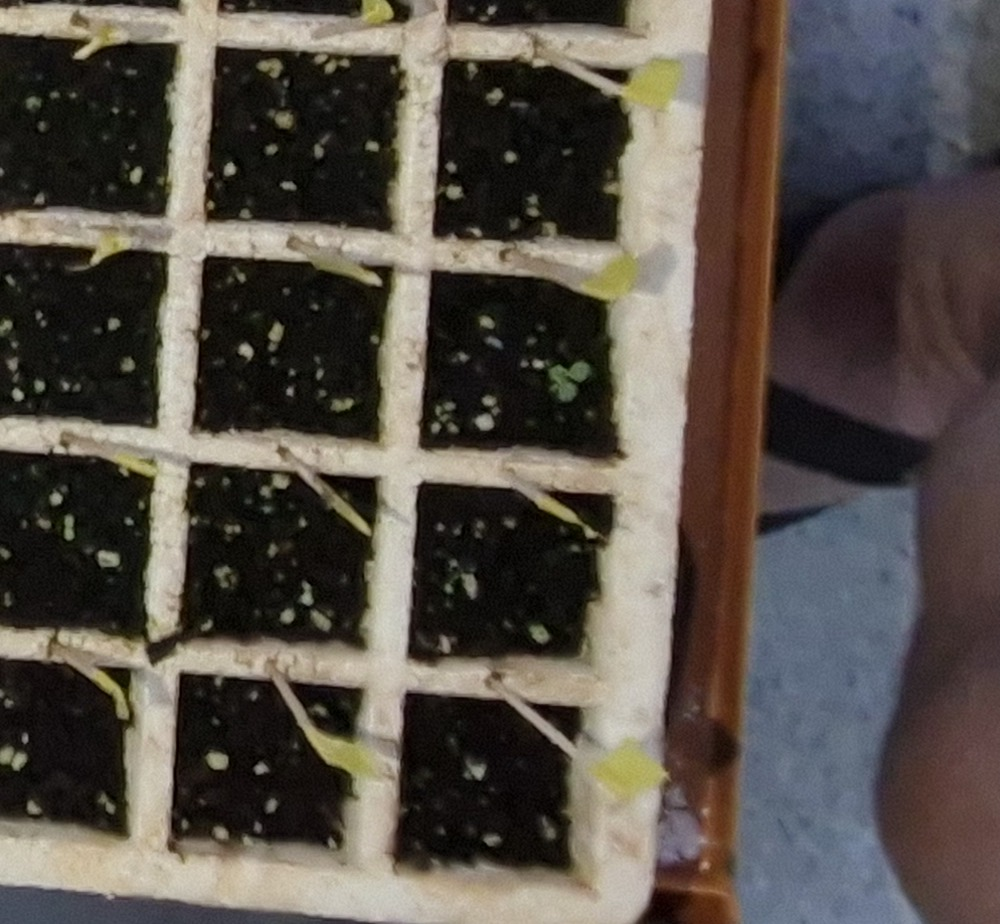Folha: (572, 362, 591, 381), (558, 383, 576, 400), (11, 752, 27, 770), (0, 746, 14, 765), (552, 365, 569, 380), (65, 514, 75, 527), (65, 526, 74, 540)
Germinacao: (554, 361, 592, 402), (0, 744, 28, 772), (63, 515, 76, 539)
